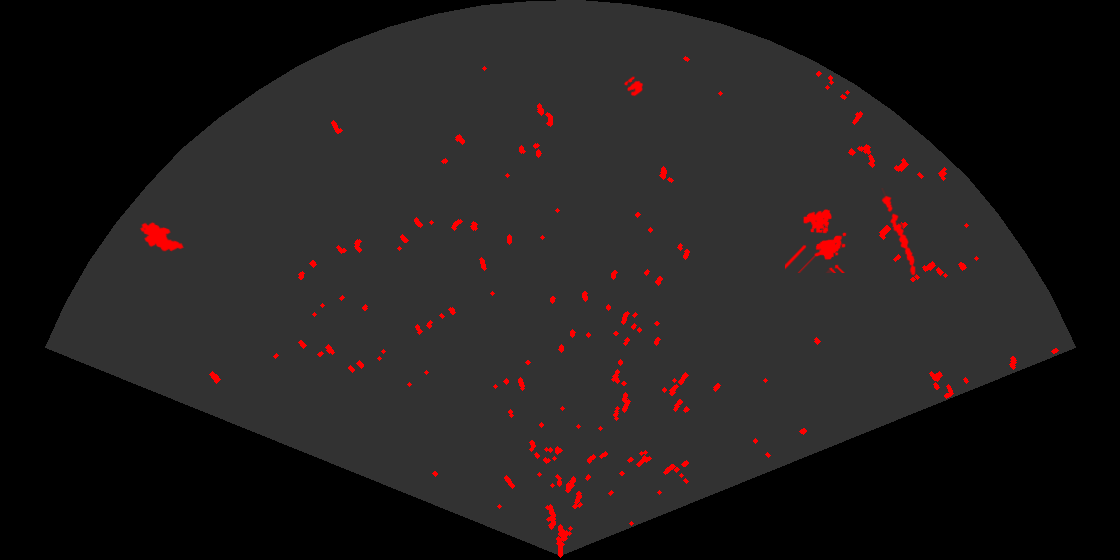AUV: (138, 220, 186, 253)
ball: (622, 75, 645, 98)
cage: (785, 207, 848, 273)
chain: (880, 188, 917, 277)
